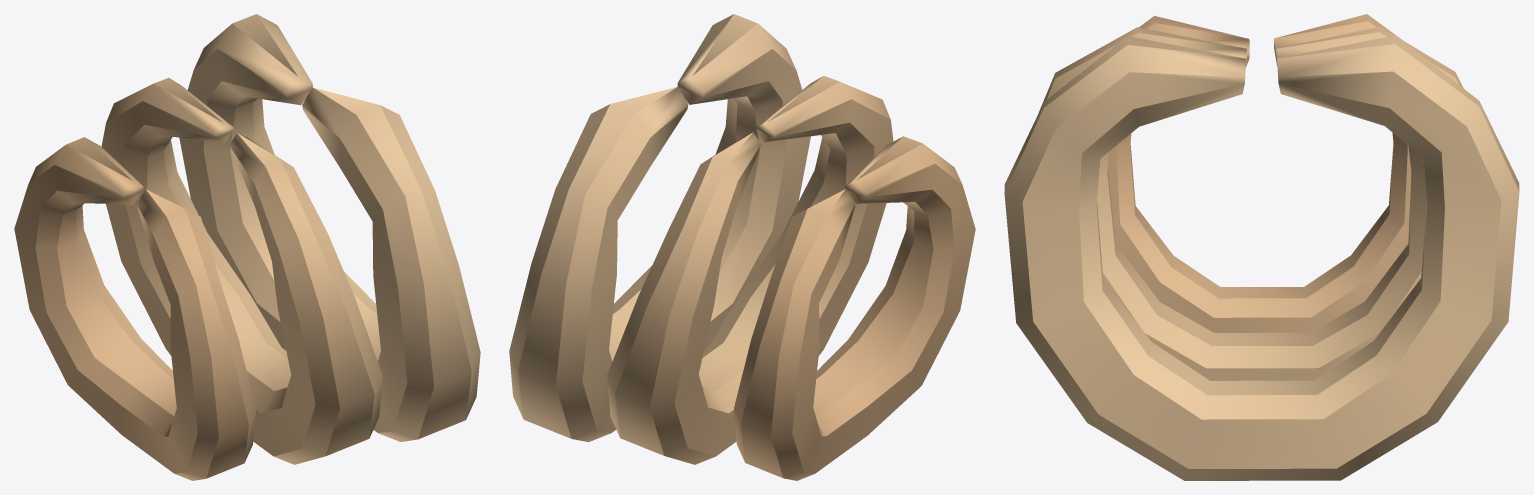
File: Bones_1.glb
3 renders of one model, left to right at view 1: azimuth 30°, elevation 25°; view 2: azimuth 150°, elevation 25°; view 3: azimuth 270°, elevation 25°, orthographic. The views are drawn at different scales.
Visible parts, largest first — view 1: Bones_1; view 2: Bones_1; view 3: Bones_1.
Part boxes in pixels (x1,y1,x2,y2): Bones_1: (14, 14, 480, 480); Bones_1: (509, 14, 975, 480); Bones_1: (1004, 14, 1519, 480).
Size of the model in its own units: 0.2231 by 0.2466 by 0.2892.
1 material, 1 textured.
